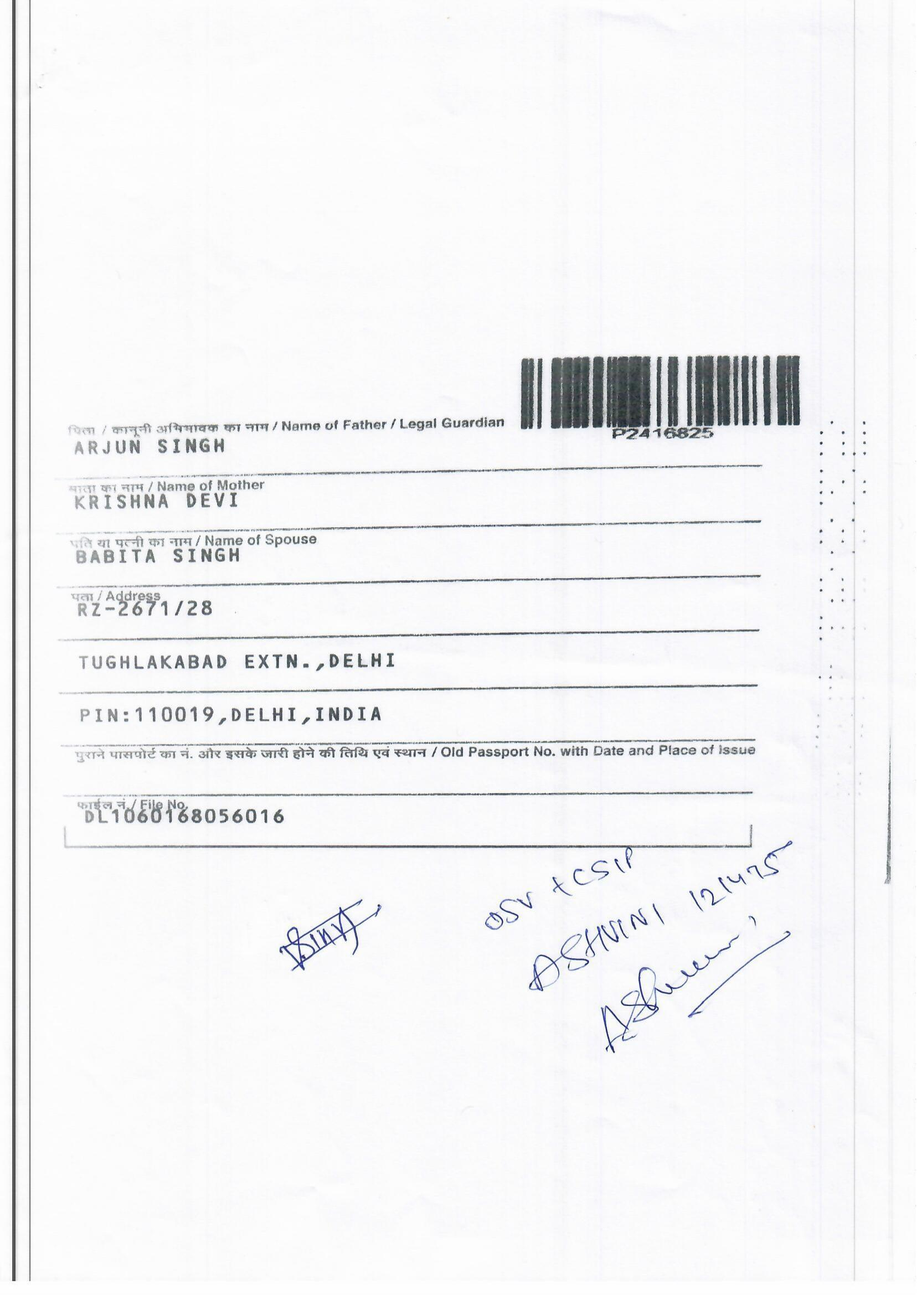File_no: (72, 804, 300, 833)
address: (61, 576, 421, 737)
father_name: (55, 430, 246, 469)
mother_name: (69, 486, 248, 519)
passport_no: (605, 424, 727, 447)
spouse_name: (69, 544, 275, 573)
